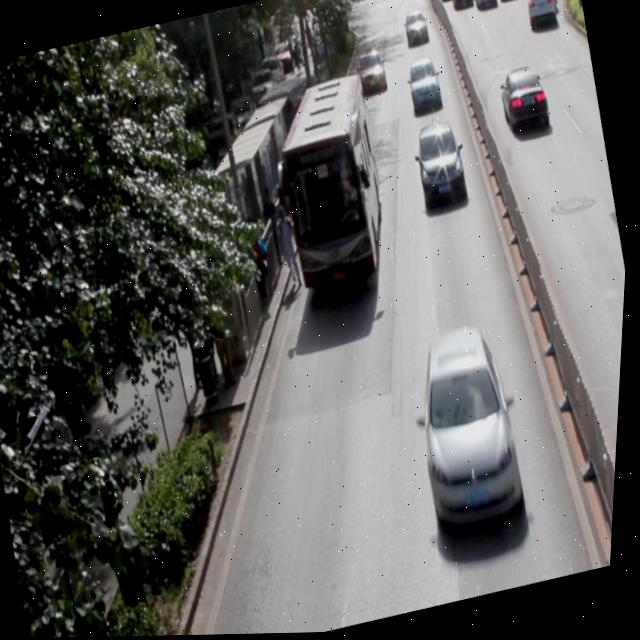car: (402, 320, 539, 532), (410, 119, 470, 202), (494, 64, 554, 137), (403, 56, 444, 112), (353, 48, 389, 94)
van: (263, 72, 400, 291)
